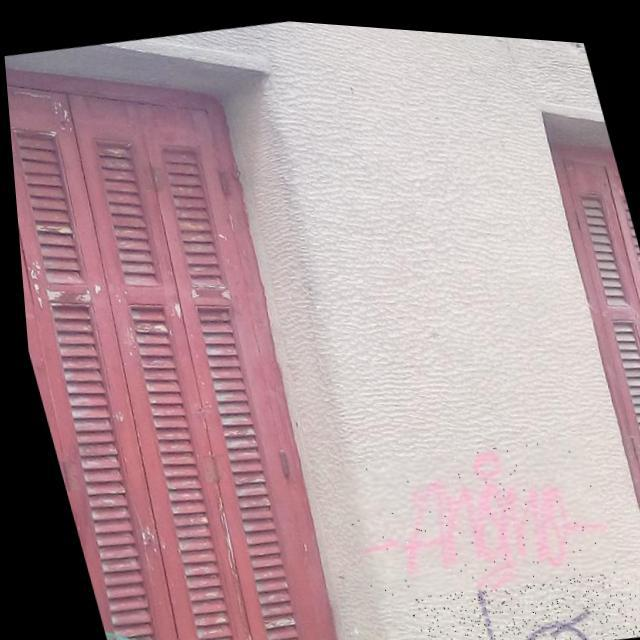-: (326, 414, 616, 615), (396, 549, 640, 640)
